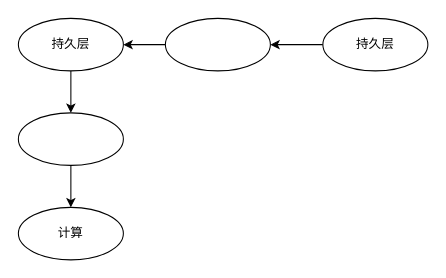
This 446x278 diagram has some shape labels left out. The shapes that lost their labels are listed below. From the top down, each one's centre as x and y in pixels, then its label:
At pixel 217 44: "网络层".
At pixel 70 138: "内存".
